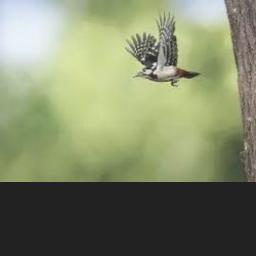Woodpecker: (124, 9, 200, 87)
